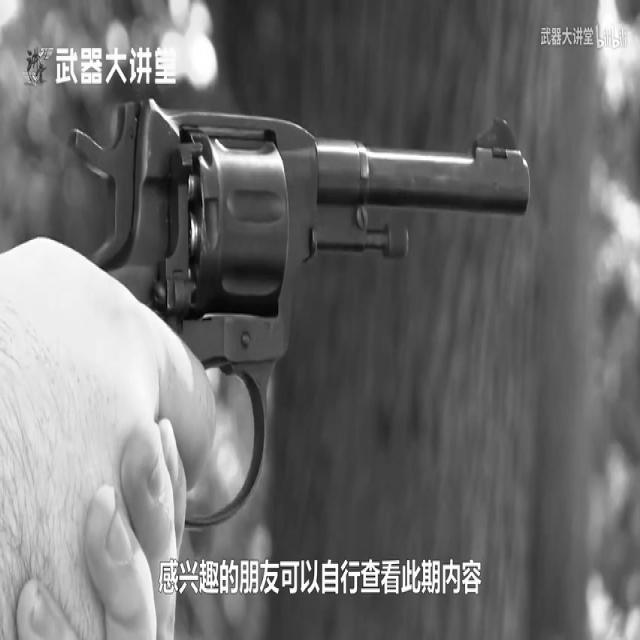Short-Gun: (46, 27, 572, 640)
